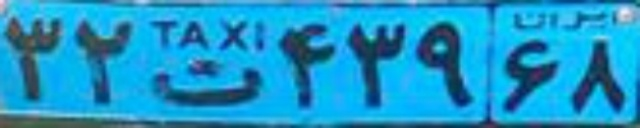2: (71, 17, 136, 105)
3: (345, 22, 404, 108), (5, 17, 60, 101)
4: (276, 23, 336, 107)
6: (497, 37, 558, 111)
8: (566, 37, 627, 112)
9: (415, 22, 479, 109)
te: (145, 54, 264, 105)
